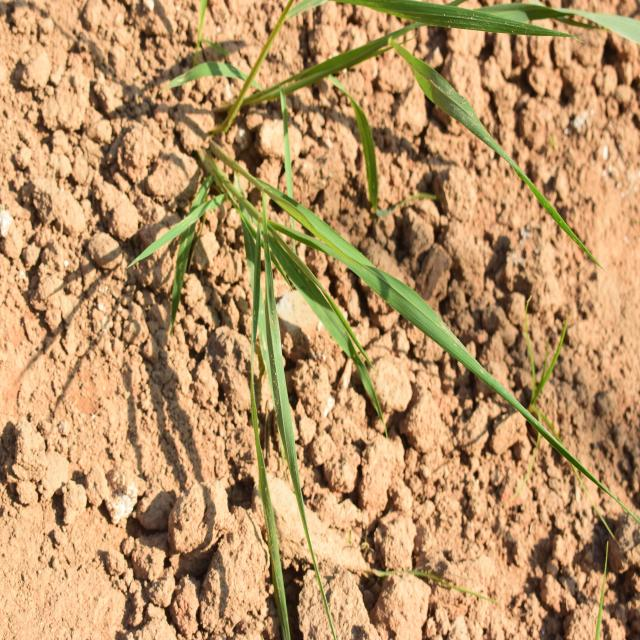green_foxtail: (191, 154, 429, 460)
